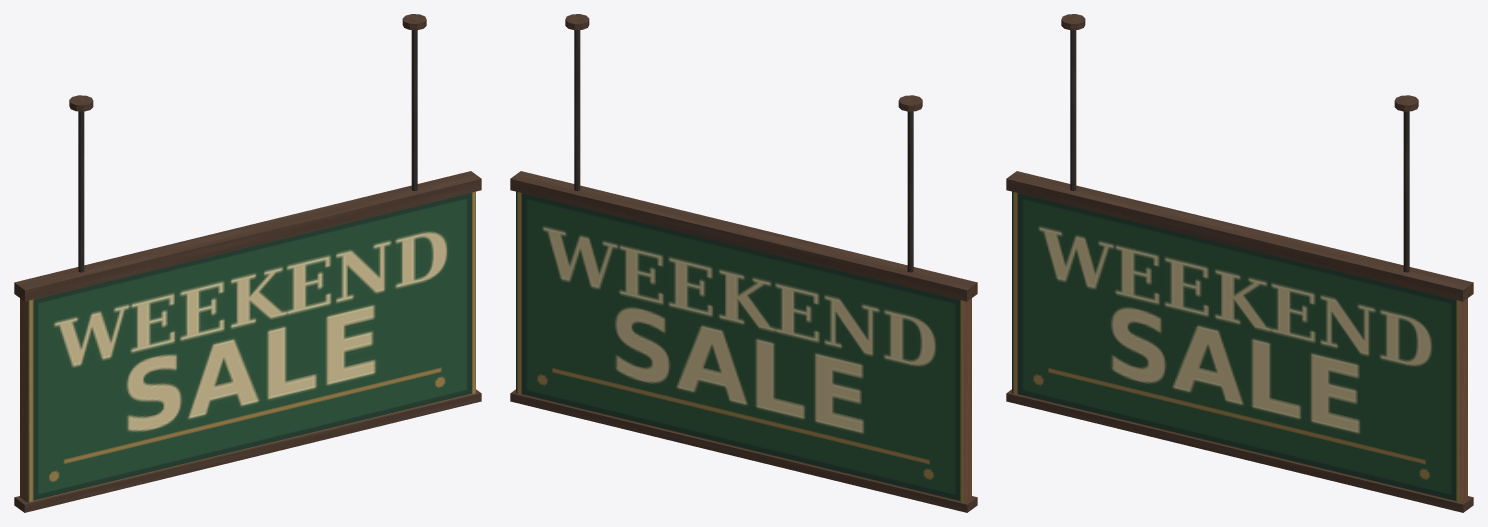
The model's file is sale_sign_weekend.glb.
The picture shows the model from 3 angles, left to right: view 1: azimuth 30°, elevation 25°; view 2: azimuth 150°, elevation 25°; view 3: azimuth 330°, elevation 25°; orthographic projection.
Visible parts, largest first — view 1: Suspended Sale Sign; view 2: Suspended Sale Sign; view 3: Suspended Sale Sign.
Boxes of the visible parts, x1=… form: Suspended Sale Sign: x1=14, y1=14, x2=481, y2=512; Suspended Sale Sign: x1=510, y1=14, x2=977, y2=512; Suspended Sale Sign: x1=1006, y1=14, x2=1473, y2=512.
Size of the model in its own units: 1.21 by 1 by 0.0533.
Materials: 1 (1 with a texture image).
